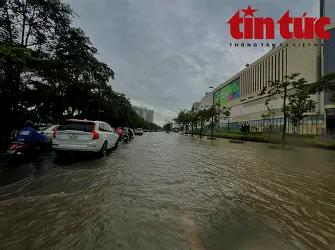ROAD_FLOODING: (22, 111, 320, 234)
